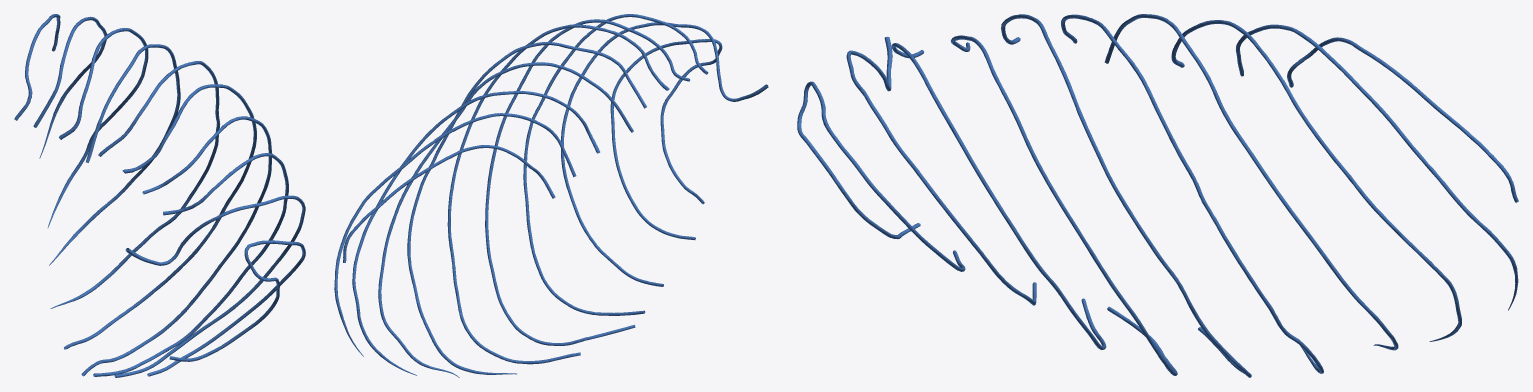
3 renders of one model, left to right at view 1: azimuth 30°, elevation 25°; view 2: azimuth 150°, elevation 25°; view 3: azimuth 270°, elevation 25°, orthographic. The views are drawn at different scales.
Visible parts, largest first — view 1: 左肋间上静脉; view 2: 左肋间上静脉; view 3: 左肋间上静脉.
Part boxes in pixels (x1=…): 左肋间上静脉: x1=14, y1=14, x2=305, y2=377; 左肋间上静脉: x1=334, y1=14, x2=768, y2=377; 左肋间上静脉: x1=797, y1=14, x2=1518, y2=377.
Size of the model in its own units: 0.2354 by 0.2893 by 0.5276.
